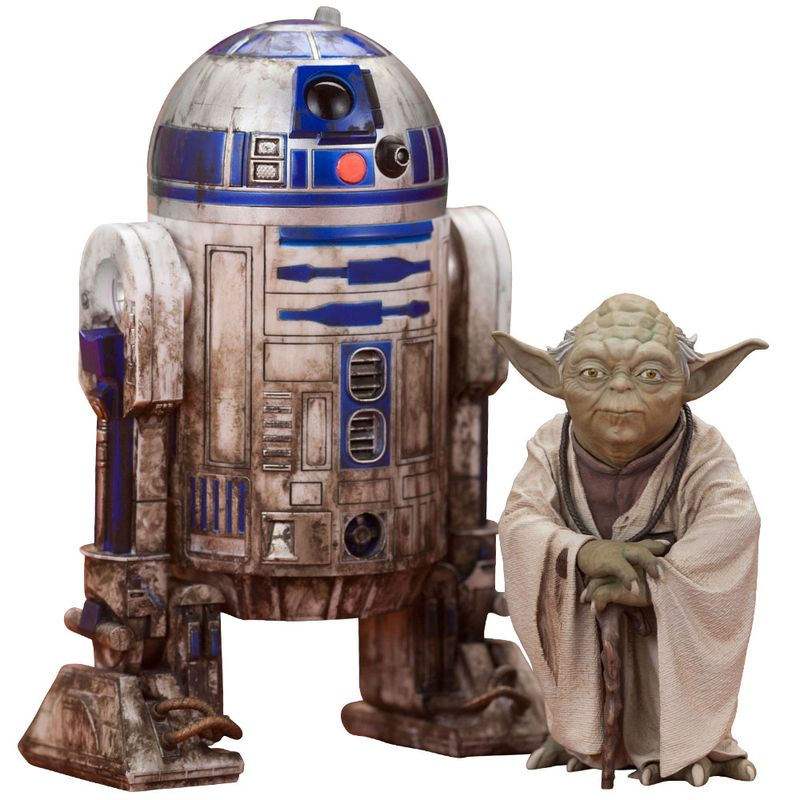r2d2: (33, 17, 510, 780)
